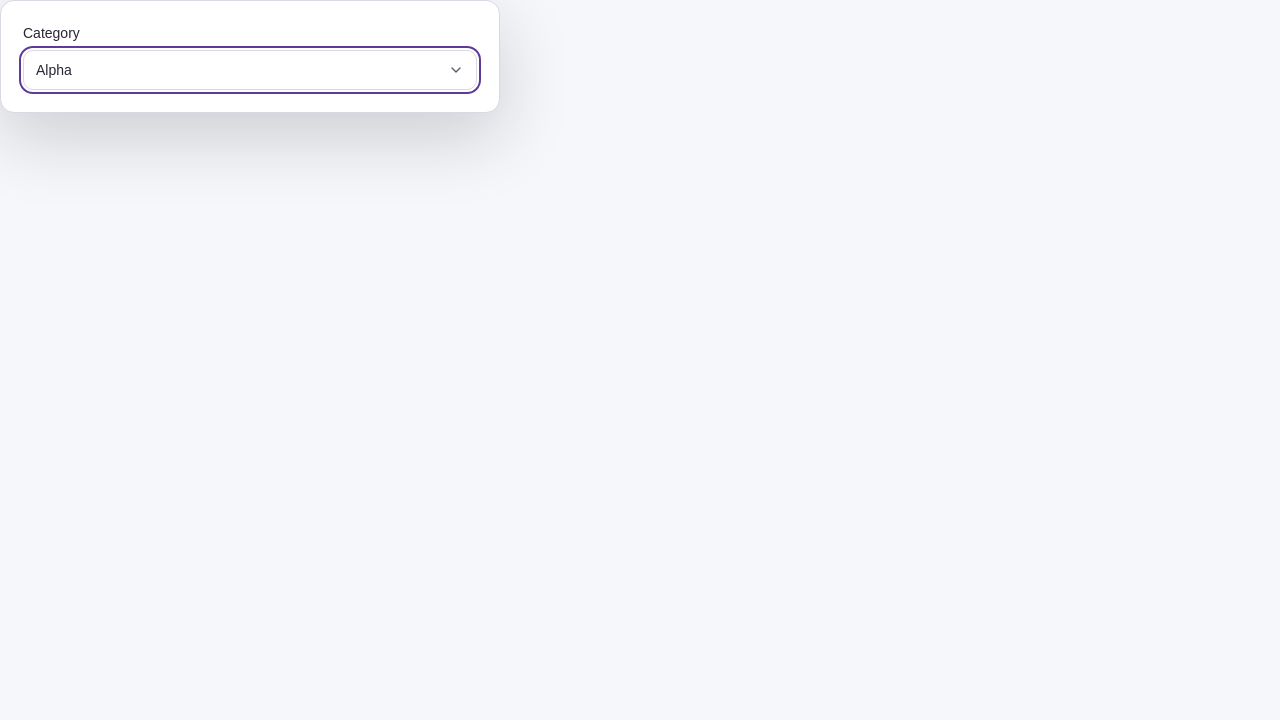
shared select menus › keeps labels, empty choices and original form values inside a dialog
Press ArrowDown in the dropdown named "Category", box x1=23 y1=50 x2=477 y2=90
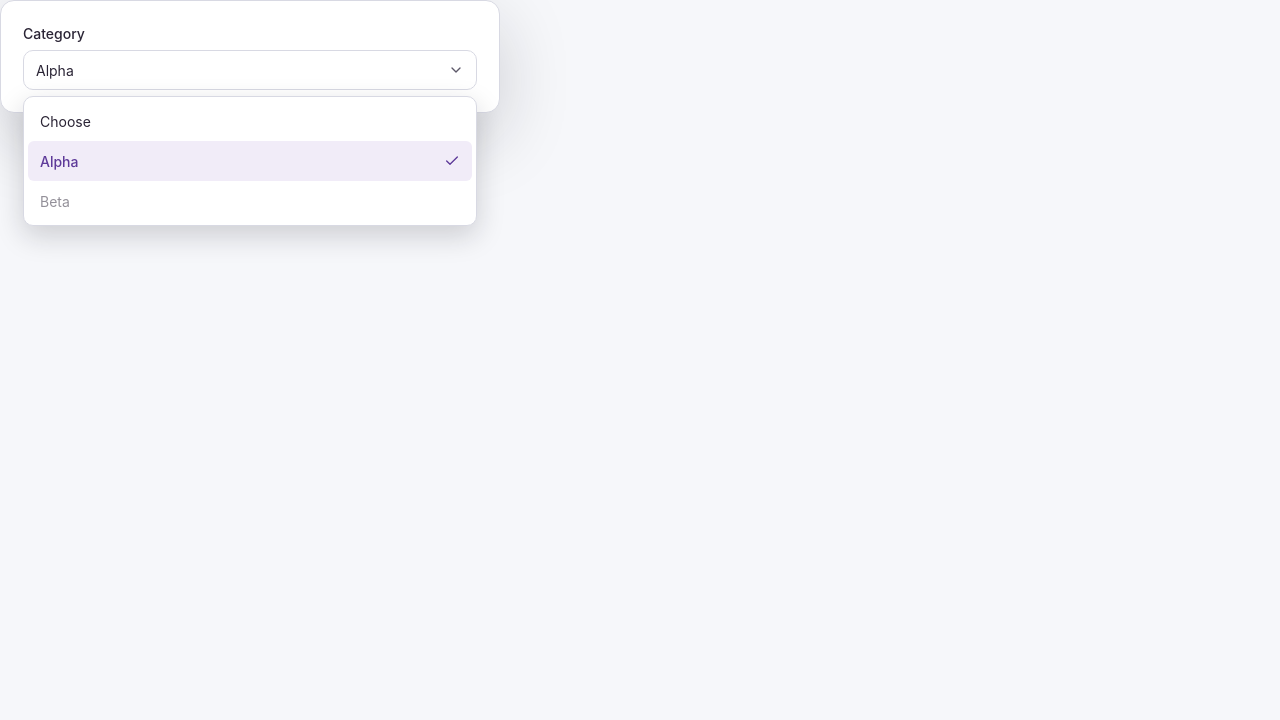
Click the option "Choose": (65, 121) x1=40 y1=112 x2=91 y2=130
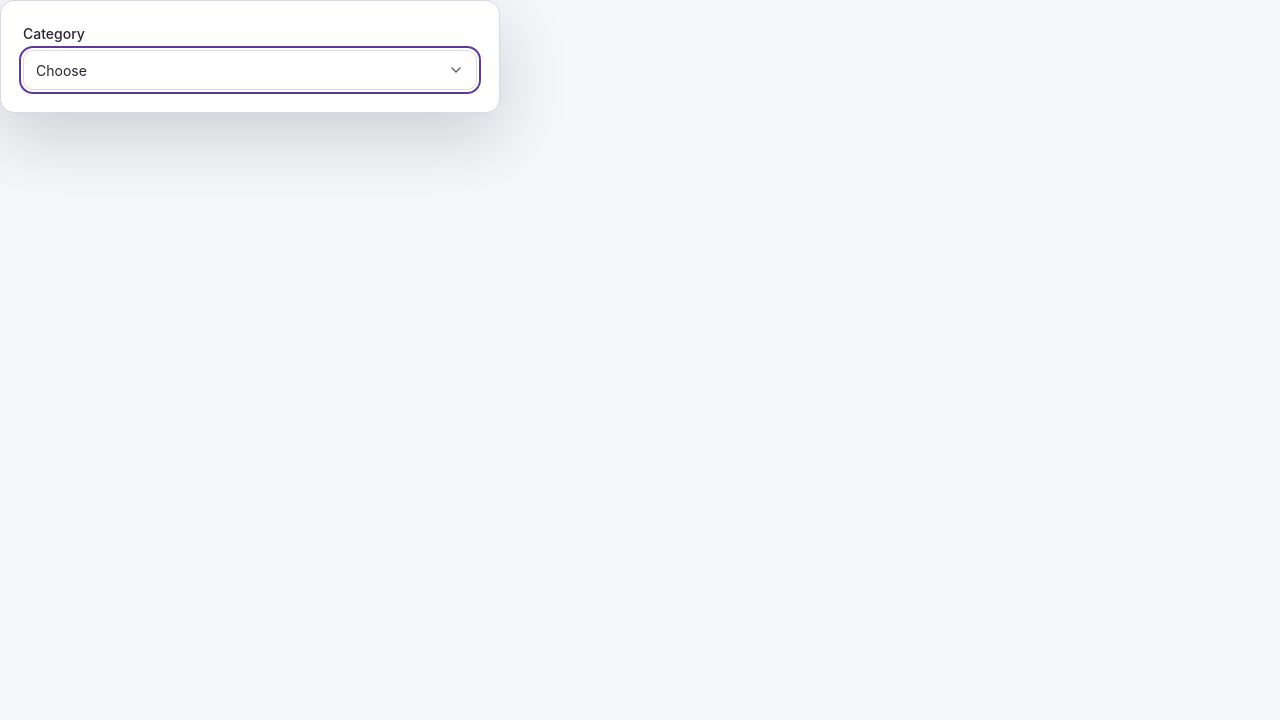
Now the dropdown named "Category" reads "Choose", box x1=23 y1=50 x2=477 y2=90
